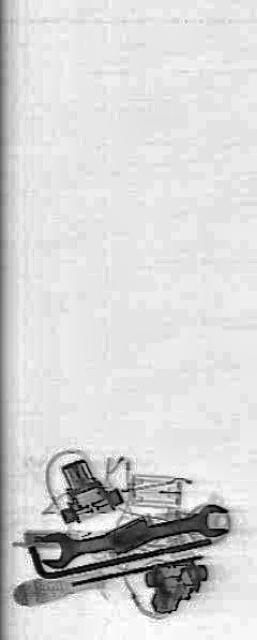Wrench: (39, 500, 229, 570)
